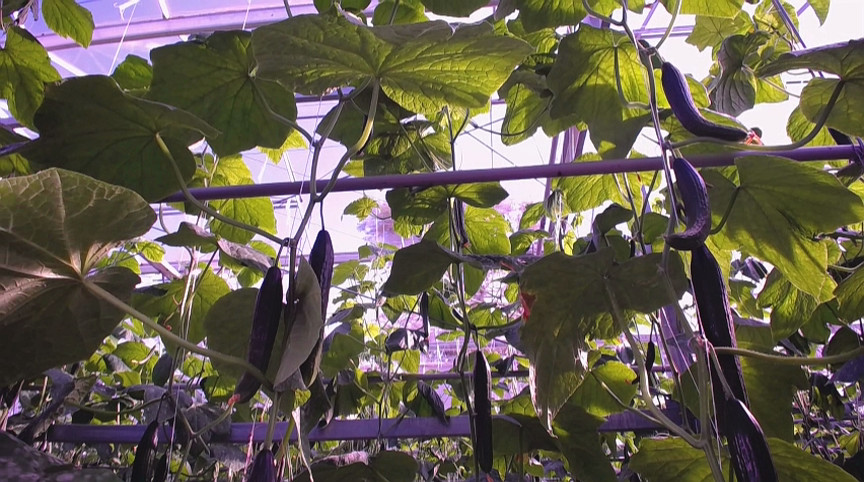cucumber: (691, 245, 751, 408), (661, 60, 748, 143), (237, 267, 286, 405), (299, 229, 338, 387), (665, 155, 711, 252), (724, 400, 776, 482), (472, 351, 496, 473), (133, 419, 162, 481), (250, 451, 281, 482)
